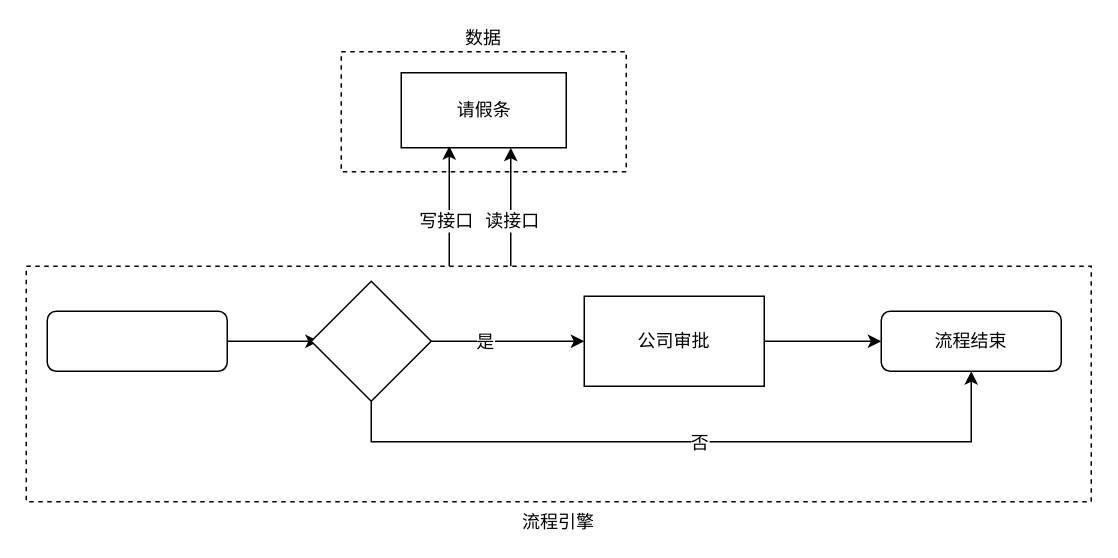
Image size: 1118x558. Some labels were removed from this diagram. Here are the shapes that lost their labels. From the top down, the box of each, then its label:
(46, 310, 227, 371): 请假申请
(310, 280, 431, 401): 部门批准
